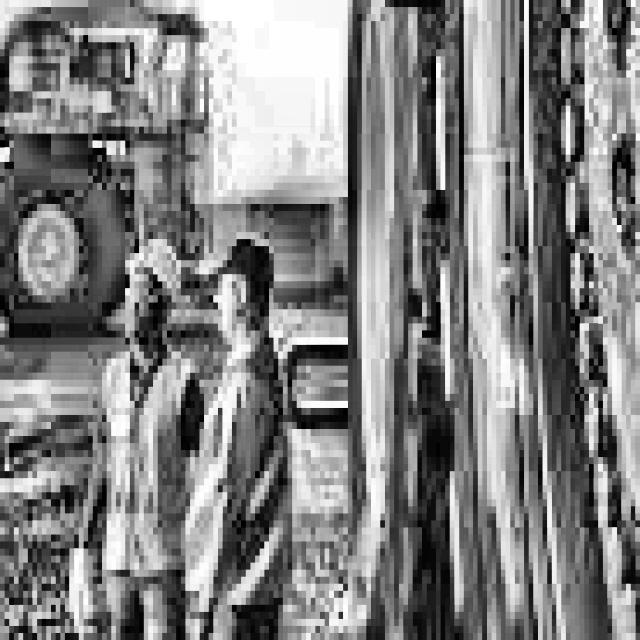dump_truck: (0, 0, 213, 316)
